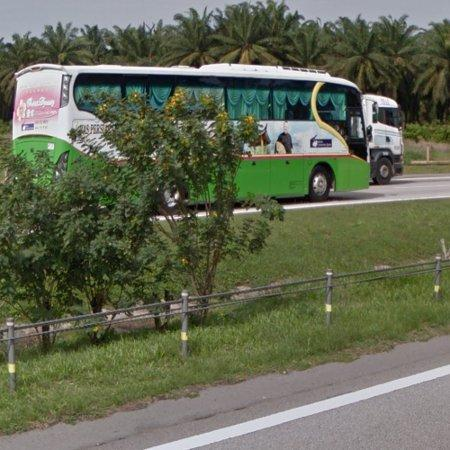buses: (12, 64, 369, 199)
